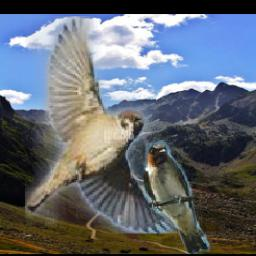Sparrow: (25, 16, 177, 233)
Swallow: (144, 140, 212, 254)
